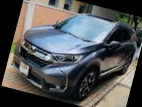car: (6, 0, 142, 107)
